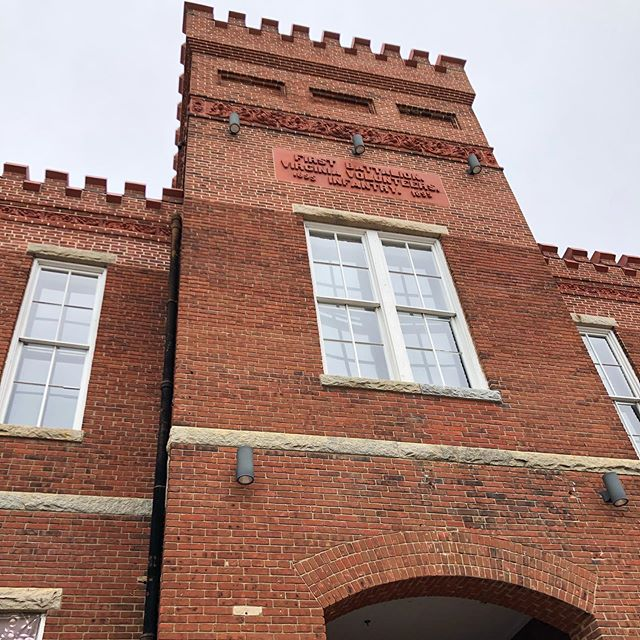building: (6, 10, 640, 640)
